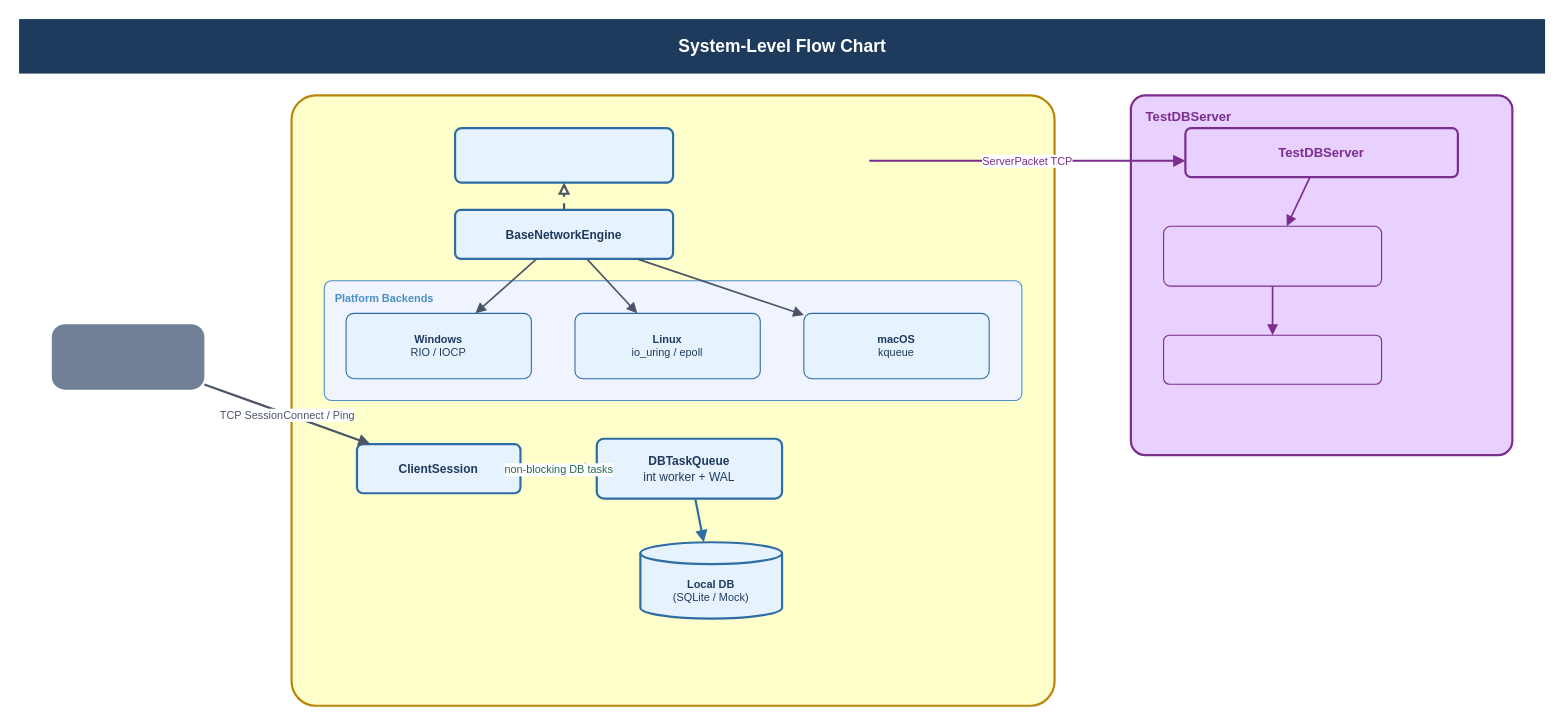
The diagram is 1563 pixels wide and 725 high, and some of its shapes have lost their labels. The box of each missing label's shape, as (x1, y1, x2, y2) in pixels:
INetworkEngine <<interface>>: (453, 126, 674, 183)
OrderedTaskQueue (key affinity by serverId): (1162, 225, 1382, 286)
ServerLatencyManager: (1162, 334, 1382, 384)
TestClient: (51, 324, 204, 389)
TestServer: (290, 94, 1055, 706)
